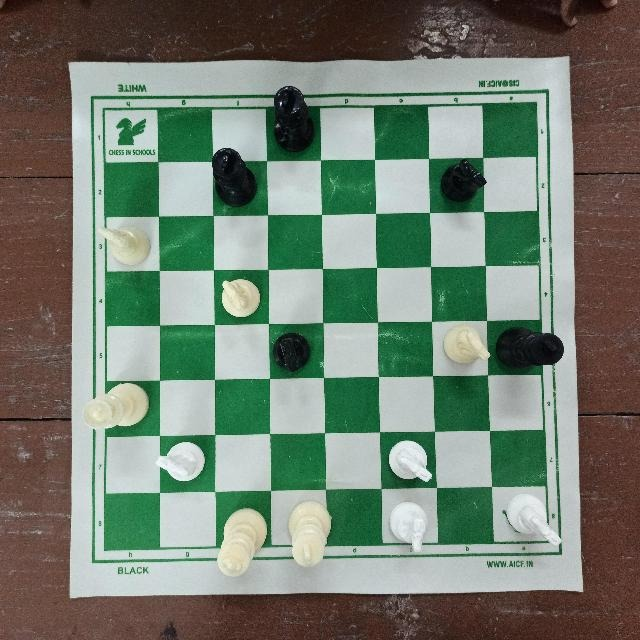black-king: (269, 79, 318, 156), (495, 324, 568, 372), (210, 142, 257, 208)
black-knight: (432, 153, 490, 205), (266, 324, 321, 373)
white-king: (210, 503, 268, 583), (290, 494, 334, 576)
white-knight: (500, 495, 566, 553), (96, 215, 154, 270), (382, 498, 437, 556), (156, 440, 215, 492), (209, 268, 271, 317), (386, 436, 439, 492), (441, 324, 493, 377)
white-queen: (75, 380, 155, 438)
